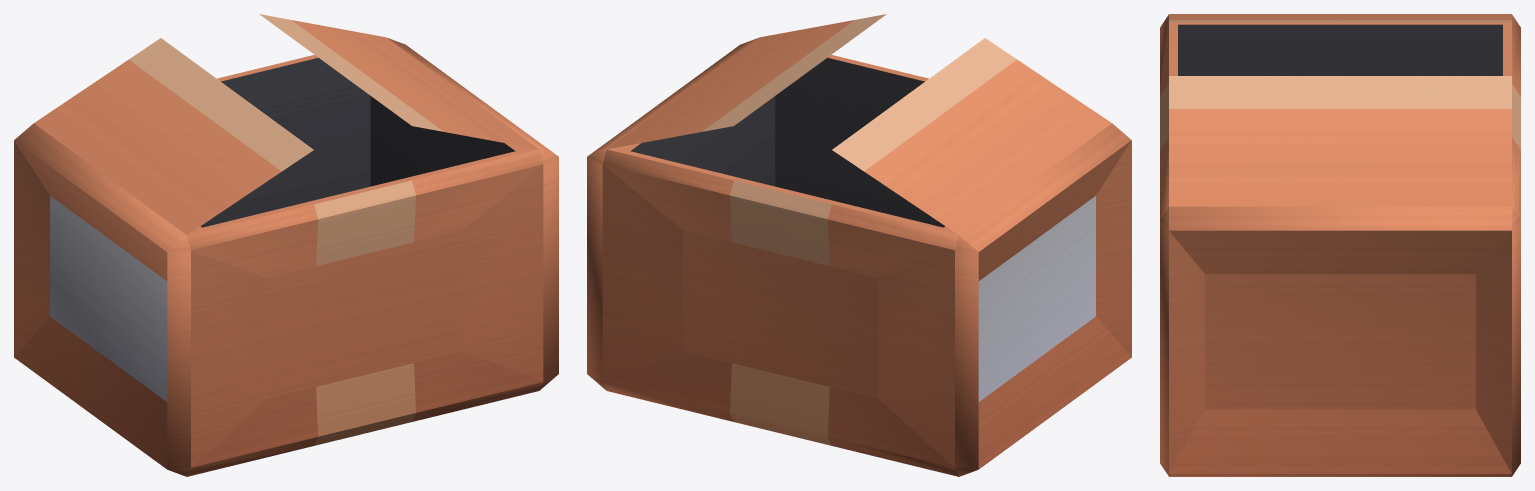
File: prp_cache_chest_open.glb
3 renders of one model, left to right at view 1: azimuth 30°, elevation 25°; view 2: azimuth 150°, elevation 25°; view 3: azimuth 270°, elevation 25°, orthographic. The views are drawn at different scales.
Parts seen in each view (by area): view 1: Mesh; view 2: Mesh; view 3: Mesh.
Boxes of the visible parts, left/top/right/bottom form: Mesh: left=14, top=14, right=558, bottom=476; Mesh: left=587, top=14, right=1131, bottom=476; Mesh: left=1160, top=14, right=1520, bottom=476.
Bounding box in the file's own units: 1.08 × 0.78 × 0.77.
Materials: 1 (1 with a texture image).
